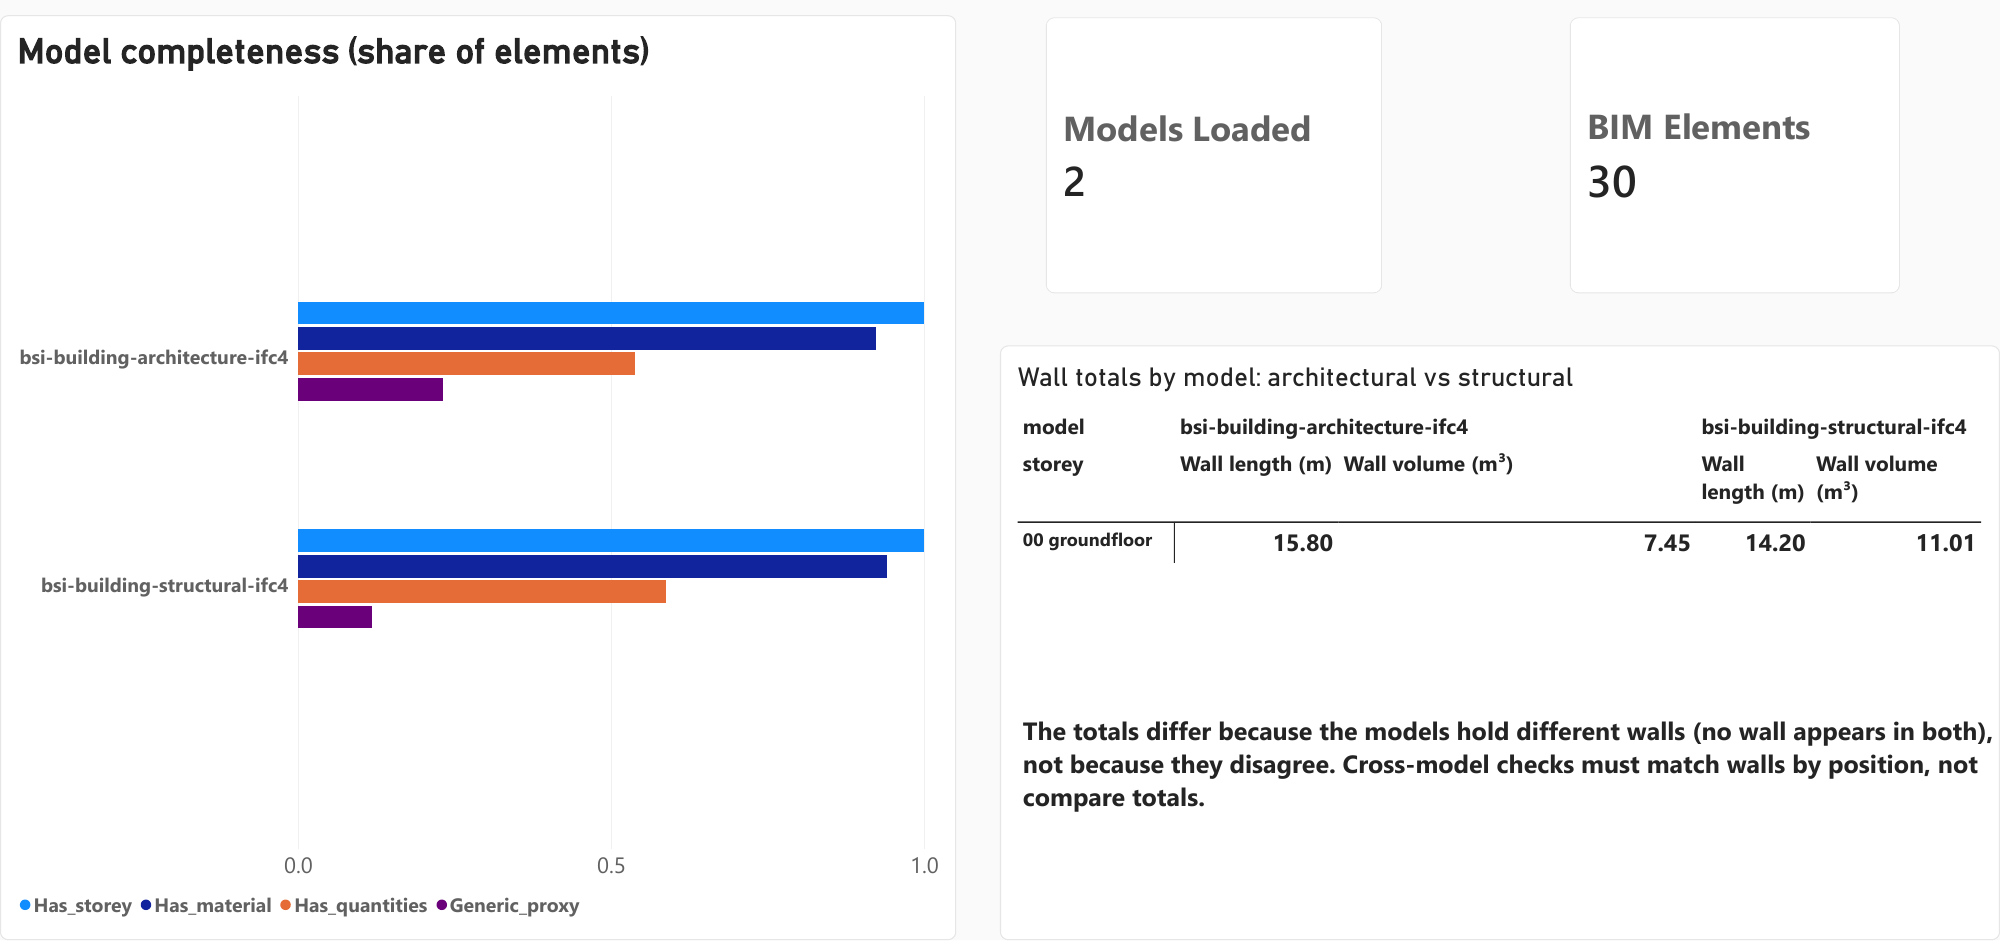

What the dashboard file says about the page in this screenshot:
{"tool":"powerbi","page":{"name":"Page 2","canvas":[1920,1080],"ordinal":1},"visuals":[{"type":"textbox","box":[0,0,1735.1,123.9],"z":0},{"type":"clusteredBarChart","title":"Model completeness (share of elements)","fields":{"Category":["IfcQuality.model"],"Y":["Sum(IfcQuality.share_with_storey)","Sum(IfcQuality.share_with_material)","Sum(IfcQuality.share_with_quantities)","Sum(IfcQuality.share_proxy)"]},"box":[0,191.6,918.1,888.1],"z":1},{"type":"cardVisual","fields":{"Data":["Count(IfcSummary.model)"]},"box":[1003.9,193.6,323.3,265.4],"z":2},{"type":"cardVisual","fields":{"Data":["Sum(IfcQuality.elements)"]},"box":[1506.9,193.6,317.3,265.4],"z":3},{"type":"pivotTable","title":"Same walls, two models: architectural vs structural","fields":{"Columns":["IfcSummary.model"],"Rows":["IfcSummary.storey"],"Values":["Sum(IfcSummary.length)","Sum(IfcSummary.volume)"]},"box":[960,508.9,960,570.8],"z":4},{"type":"textbox","box":[982,862.2,938,217.5],"z":5}]}

Visuals, with their boxes on the page's 1920x1080 design canvas (x1, y1, x2, y2). These are canvas units, not pixel positions in the 2000x946 screenshot, which may show the page scaled, cropped or inside an application window:
textbox: (left=0, top=0, right=1735, bottom=124)
"Model completeness (share of elements)" clusteredBarChart: (left=0, top=192, right=918, bottom=1080)
cardVisual - Count(IfcSummary.model): (left=1004, top=194, right=1327, bottom=459)
cardVisual - Sum(IfcQuality.elements): (left=1507, top=194, right=1824, bottom=459)
"Same walls, two models: architectural vs structural" pivotTable: (left=960, top=509, right=1920, bottom=1080)
textbox: (left=982, top=862, right=1920, bottom=1080)
